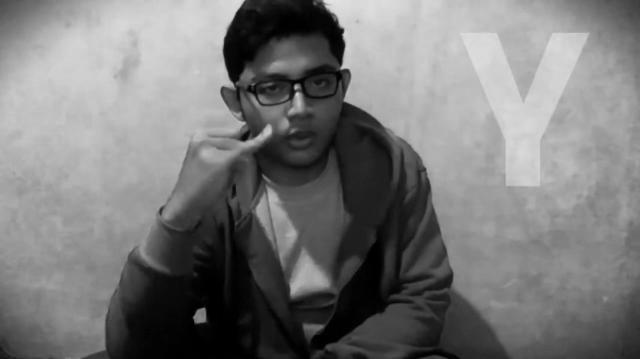Y: (168, 122, 272, 226)
